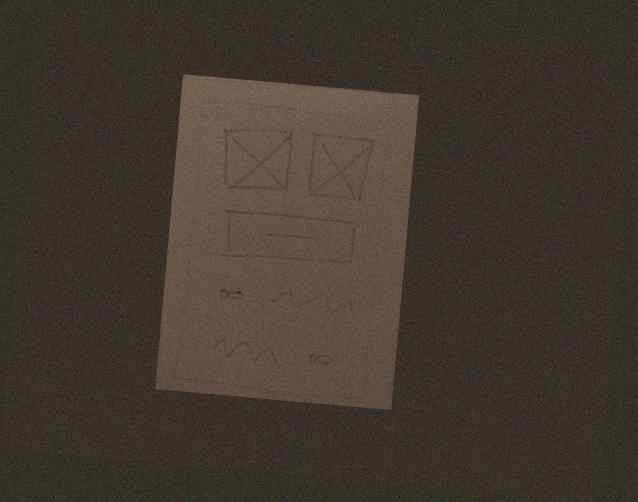button: (215, 204, 363, 271)
image: (213, 120, 298, 195), (302, 128, 376, 205)
switch: (301, 347, 339, 372), (215, 282, 249, 307)
text: (265, 280, 363, 321), (206, 333, 287, 373)
